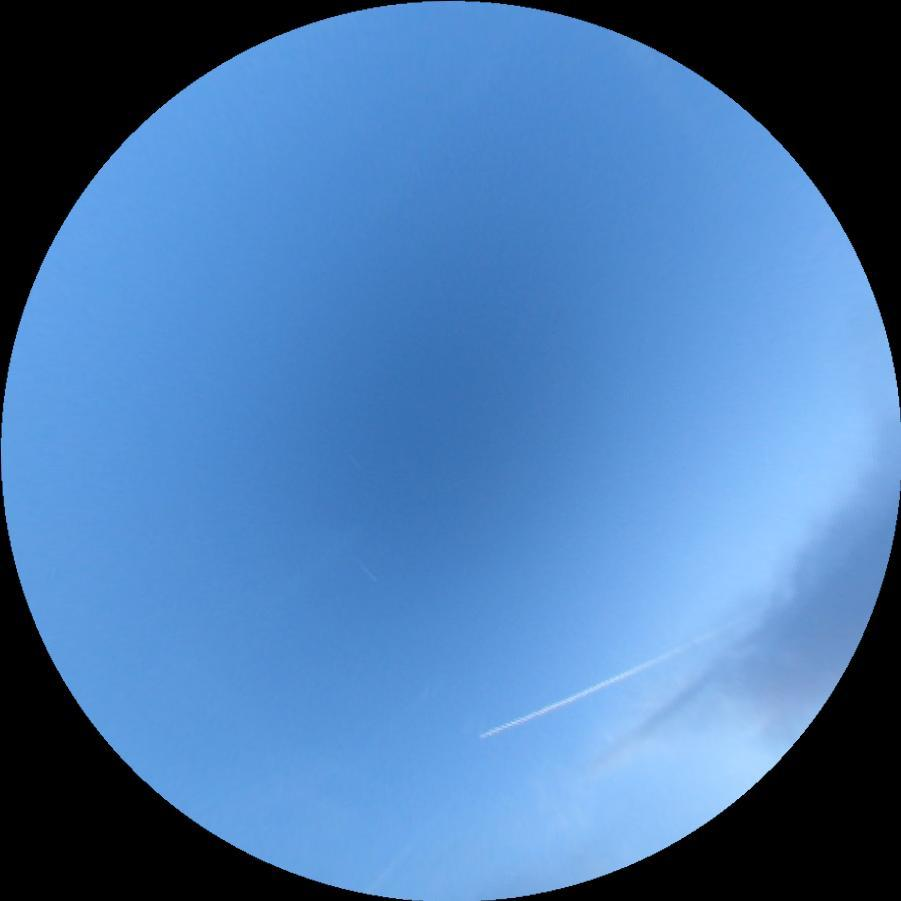contrail old: (479, 615, 746, 741)
contrail young: (356, 559, 378, 583)
